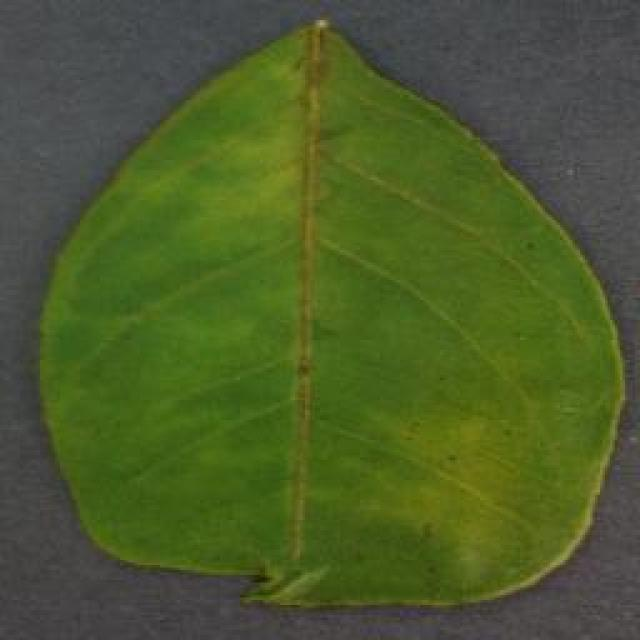Orange_Haunglongbing_Citrus_greening: (118, 111, 552, 584)
